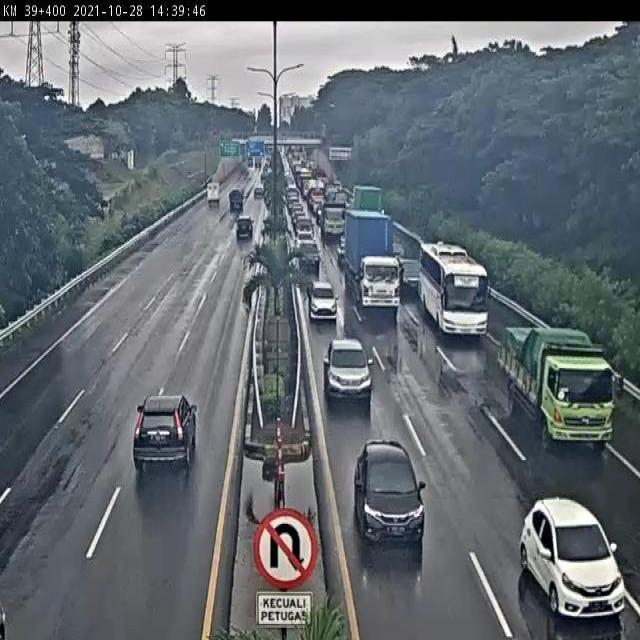car: (514, 491, 631, 632), (349, 427, 429, 549), (125, 386, 207, 482), (321, 335, 373, 404), (396, 253, 427, 299), (306, 278, 338, 322), (296, 238, 322, 274), (233, 213, 256, 243), (225, 187, 247, 216), (292, 224, 314, 248), (293, 210, 315, 230), (250, 187, 264, 203)
truck: (494, 320, 623, 460), (416, 230, 487, 346), (340, 204, 400, 308), (348, 177, 385, 220), (313, 196, 347, 239), (203, 179, 223, 211)
